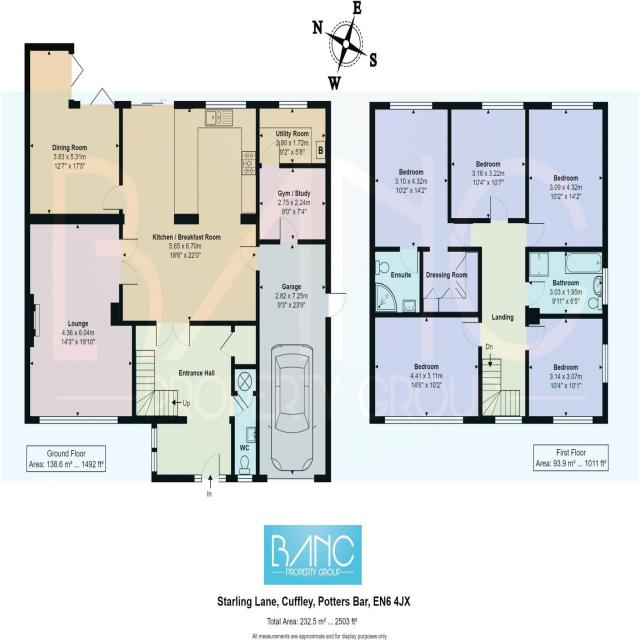DOOR: (461, 320, 482, 348), (102, 183, 123, 211), (525, 325, 546, 352), (525, 280, 546, 307), (239, 245, 260, 272), (489, 195, 509, 223), (399, 246, 418, 275), (201, 453, 220, 482), (453, 222, 474, 248), (261, 141, 281, 168), (279, 217, 298, 245), (525, 222, 545, 248), (231, 394, 245, 417)
ROOM: (102, 101, 260, 348), (369, 101, 474, 275), (24, 43, 124, 225), (369, 312, 483, 424), (525, 102, 608, 253), (447, 102, 529, 224), (525, 313, 608, 424)
WINDOW: (38, 415, 119, 425), (384, 416, 464, 425), (552, 415, 593, 425), (389, 101, 433, 110), (551, 101, 594, 110), (482, 101, 524, 110), (205, 100, 247, 109), (494, 415, 523, 425), (602, 343, 609, 384), (278, 100, 308, 109), (602, 267, 608, 306), (151, 451, 158, 473), (237, 474, 253, 483), (151, 428, 157, 449), (194, 474, 202, 483), (219, 474, 226, 483)
